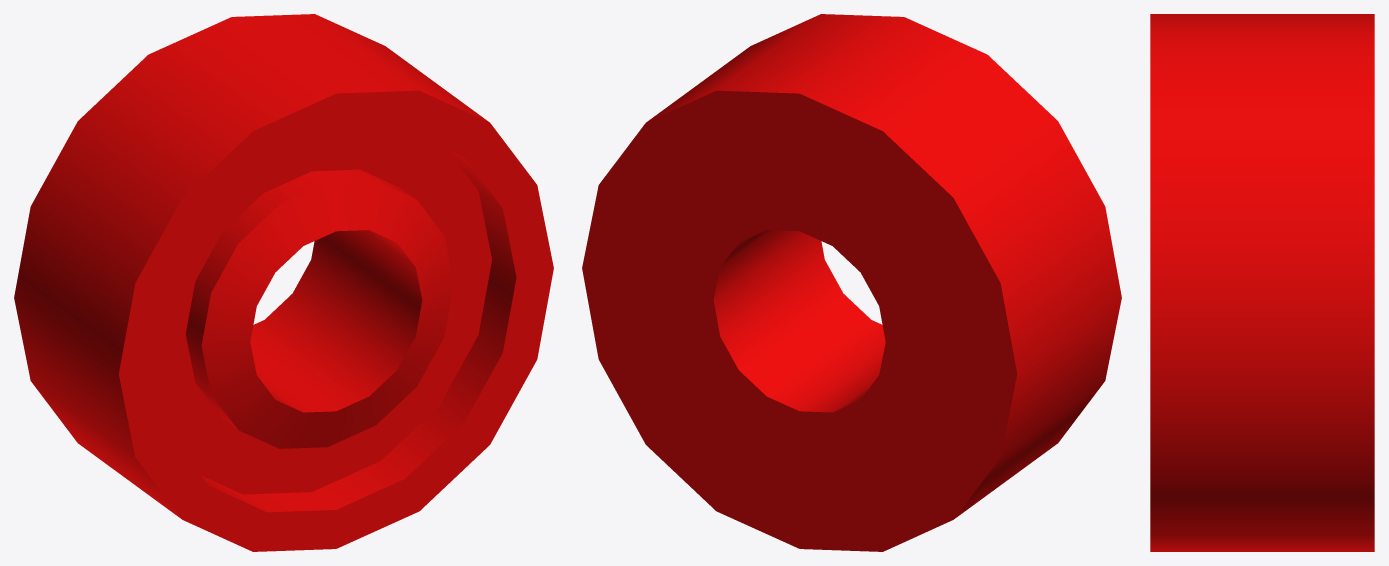
The model's file is Part_Car_wheel.FBX.
3 renders of one model, left to right at view 1: azimuth 30°, elevation 25°; view 2: azimuth 150°, elevation 25°; view 3: azimuth 270°, elevation 25°, orthographic. The views are drawn at different scales.
Parts seen in each view (by area): view 1: Part_Car_wheel; view 2: Part_Car_wheel; view 3: Part_Car_wheel.
Boxes of the visible parts, left/top/right/bottom form: Part_Car_wheel: left=14, top=14, right=553, bottom=551; Part_Car_wheel: left=582, top=14, right=1121, bottom=551; Part_Car_wheel: left=1150, top=14, right=1374, bottom=551.
Bounding box in the file's own units: 120 × 120 × 50.
